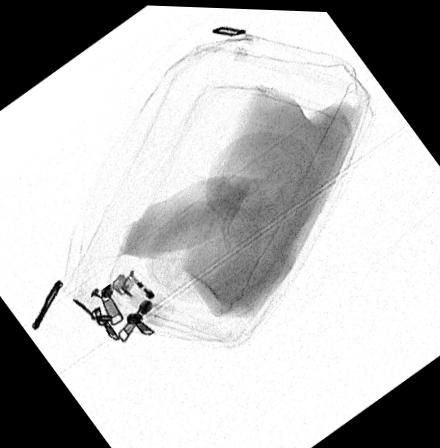Lighter: (110, 265, 175, 325)
